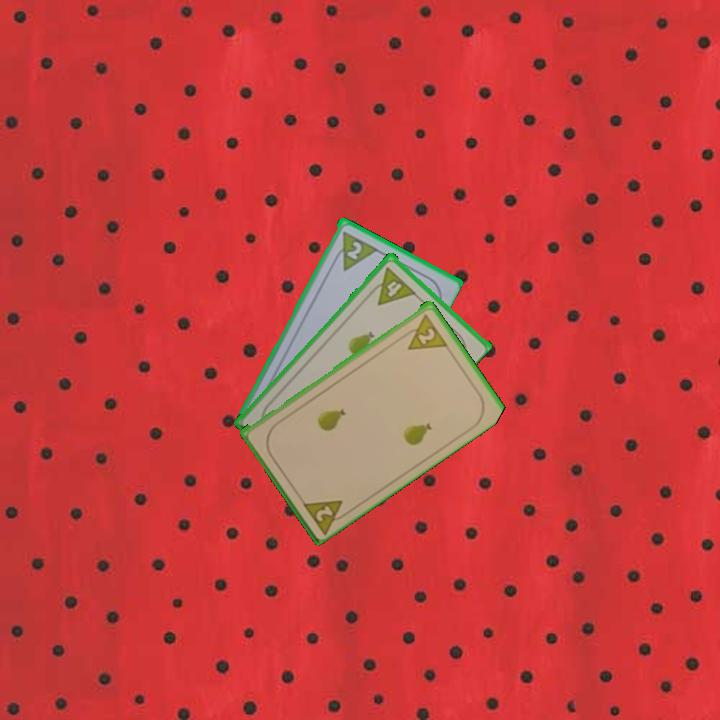2p: (398, 309, 450, 353), (298, 496, 353, 536), (343, 237, 365, 262)
4p: (365, 263, 418, 308)
